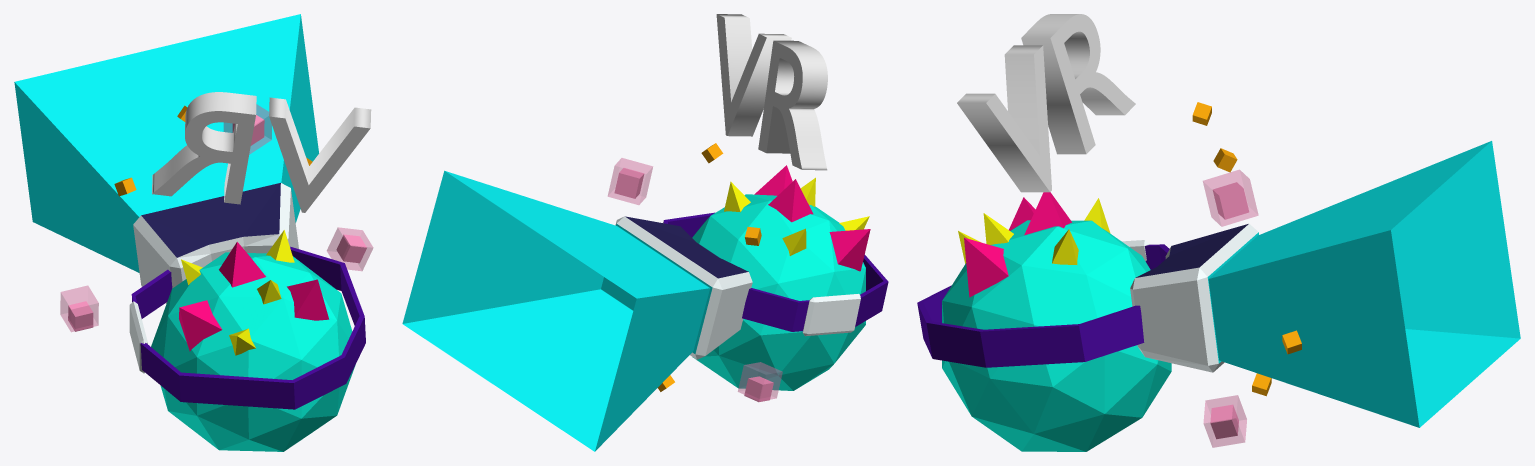
Rendered from planet_vr_2.fbx.
3 renders of one model, left to right at view 1: azimuth 30°, elevation 25°; view 2: azimuth 150°, elevation 25°; view 3: azimuth 270°, elevation 25°, orthographic. The views are drawn at different scales.
Parts seen in each view (by area): view 1: pCube19, pPlatonic20, VR, pCube12, pCube13, pCube18, pCube24, pPyramid1, pPyramid3, pPyramid2, pCube15, pCube14 (+5 smaller); view 2: pCube19, pPlatonic20, VR, pCube12, pCube13, pCube14, pCube15, pCube18, pPyramid1, pPyramid2, pCube16, pCube17 (+2 smaller); view 3: pCube19, pPlatonic20, VR, pCube12, pCube13, pCube15, pCube24, pPyramid3, pPyramid2, pCube16, pCube25, pPyramid6.
Boxes of the visible parts, box(x1,y1,x2,y2) form: pCube19: box(14, 14, 318, 272); pPlatonic20: box(151, 252, 355, 451); VR: box(152, 92, 371, 212); pCube12: box(133, 183, 298, 303); pCube13: box(131, 246, 365, 409); pCube18: box(60, 285, 98, 332); pCube24: box(327, 227, 373, 271); pPyramid1: box(179, 300, 222, 351); pPyramid3: box(287, 279, 329, 320); pPyramid2: box(219, 242, 265, 287); pCube15: box(223, 104, 271, 154); pCube14: box(129, 301, 147, 373); pCube19: box(402, 170, 710, 451); pPlatonic20: box(692, 194, 865, 390); VR: box(716, 14, 827, 170); pCube12: box(601, 216, 752, 359); pCube13: box(663, 212, 888, 331); pCube14: box(802, 293, 860, 336); pCube15: box(608, 158, 652, 204); pCube18: box(738, 362, 782, 401); pPyramid1: box(829, 229, 870, 271); pPyramid2: box(768, 179, 813, 222); pCube16: box(614, 168, 644, 198); pCube17: box(744, 376, 773, 402); pCube19: box(1208, 141, 1520, 427); pPlatonic20: box(942, 220, 1171, 451); VR: box(957, 14, 1135, 192); pCube12: box(1130, 223, 1258, 372); pCube13: box(917, 244, 1169, 367); pCube15: box(1203, 169, 1258, 226); pCube24: box(1203, 395, 1246, 447); pPyramid3: box(964, 237, 1008, 297); pPyramid2: box(1024, 192, 1071, 235); pCube16: box(1212, 182, 1249, 219); pCube25: box(1210, 404, 1238, 439); pPyramid6: box(1052, 229, 1078, 264).
Bounding box in the file's own units: 44.42 × 46.48 × 61.72.
